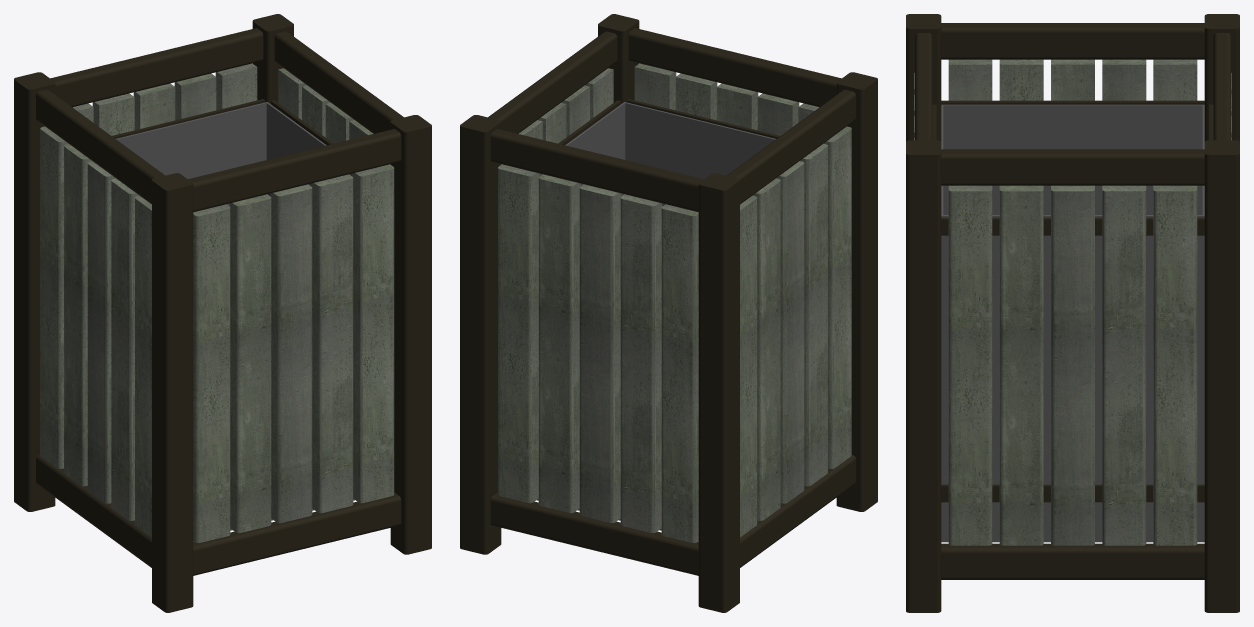
3 views of the same model, side by side, from view 1: azimuth 30°, elevation 25°; view 2: azimuth 150°, elevation 25°; view 3: azimuth 270°, elevation 25° (orthographic). The views are drawn at different scales.
Parts seen in each view (by area): view 1: mesh50.001_mesh50-geometry, mesh38.001_mesh38-geometry, mesh15.001_mesh15-geometry, mesh14.001_mesh14-geometry, mesh17.001_mesh17-geometry, mesh16.001_mesh16-geometry, mesh13.001_mesh13-geometry, mesh26.001_mesh26-geometry, mesh23.001_mesh23-geometry, mesh73.001_mesh73-geometry, mesh76.001_mesh76-geometry, mesh74.001_mesh74-geometry (+17 smaller); view 2: mesh26.001_mesh26-geometry, mesh1.001_mesh1-geometry, mesh66.001_mesh66-geometry, mesh64.001_mesh64-geometry, mesh63.001_mesh63-geometry, mesh62.001_mesh62-geometry, mesh65.001_mesh65-geometry, mesh50.001_mesh50-geometry, mesh23.001_mesh23-geometry, mesh73.001_mesh73-geometry, mesh76.001_mesh76-geometry, mesh74.001_mesh74-geometry (+17 smaller); view 3: mesh23.001_mesh23-geometry, mesh38.001_mesh38-geometry, mesh1.001_mesh1-geometry, mesh86.001_mesh86-geometry, mesh85.001_mesh85-geometry, mesh84.001_mesh84-geometry, mesh82.001_mesh82-geometry, mesh83.001_mesh83-geometry, mesh40.001_mesh40-geometry, mesh28.001_mesh28-geometry, mesh41.001_mesh41-geometry, mesh50.001_mesh50-geometry (+11 smaller).
Boxes of the visible parts, <box> form: mesh50.001_mesh50-geometry: <box>152,173,193,612</box>; mesh38.001_mesh38-geometry: <box>390,115,431,554</box>; mesh15.001_mesh15-geometry: <box>311,174,353,513</box>; mesh14.001_mesh14-geometry: <box>270,184,312,523</box>; mesh17.001_mesh17-geometry: <box>229,194,271,533</box>; mesh16.001_mesh16-geometry: <box>352,164,394,503</box>; mesh13.001_mesh13-geometry: <box>193,204,230,543</box>; mesh26.001_mesh26-geometry: <box>14,72,55,511</box>; mesh23.001_mesh23-geometry: <box>116,102,355,530</box>; mesh73.001_mesh73-geometry: <box>87,161,115,503</box>; mesh76.001_mesh76-geometry: <box>64,143,91,486</box>; mesh74.001_mesh74-geometry: <box>111,178,139,520</box>; mesh26.001_mesh26-geometry: <box>698,173,739,612</box>; mesh1.001_mesh1-geometry: <box>460,115,501,554</box>; mesh66.001_mesh66-geometry: <box>538,174,580,513</box>; mesh64.001_mesh64-geometry: <box>620,194,662,532</box>; mesh63.001_mesh63-geometry: <box>579,184,621,522</box>; mesh62.001_mesh62-geometry: <box>498,164,539,503</box>; mesh65.001_mesh65-geometry: <box>661,204,698,542</box>; mesh50.001_mesh50-geometry: <box>836,72,877,511</box>; mesh23.001_mesh23-geometry: <box>536,102,775,530</box>; mesh73.001_mesh73-geometry: <box>776,161,804,503</box>; mesh76.001_mesh76-geometry: <box>752,178,780,520</box>; mesh74.001_mesh74-geometry: <box>800,143,827,486</box>; mesh23.001_mesh23-geometry: <box>941,104,1204,542</box>; mesh38.001_mesh38-geometry: <box>906,140,941,612</box>; mesh1.001_mesh1-geometry: <box>1204,140,1239,612</box>; mesh86.001_mesh86-geometry: <box>999,185,1043,545</box>; mesh85.001_mesh85-geometry: <box>1153,185,1197,545</box>; mesh84.001_mesh84-geometry: <box>1102,185,1146,545</box>; mesh82.001_mesh82-geometry: <box>948,185,992,545</box>; mesh83.001_mesh83-geometry: <box>1051,185,1094,545</box>; mesh40.001_mesh40-geometry: <box>941,149,1204,185</box>; mesh28.001_mesh28-geometry: <box>941,23,1204,59</box>; mesh41.001_mesh41-geometry: <box>941,543,1204,579</box>; mesh50.001_mesh50-geometry: <box>906,14,941,141</box>.
Size of the model in its own units: 0.4828 by 0.7306 by 0.4828.
